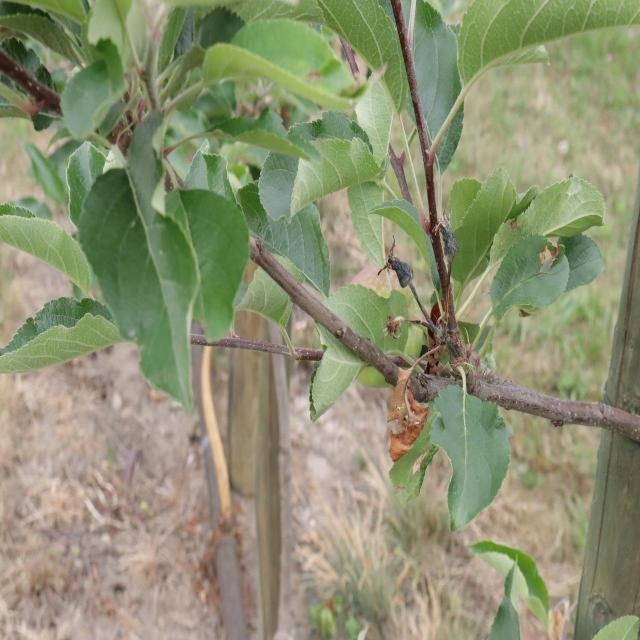-FireBlight-: (382, 361, 431, 463)
